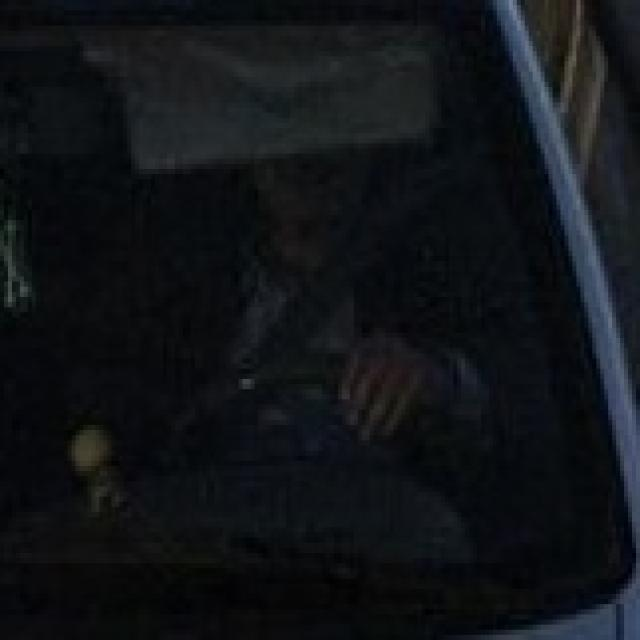windshield: (47, 8, 627, 628)
